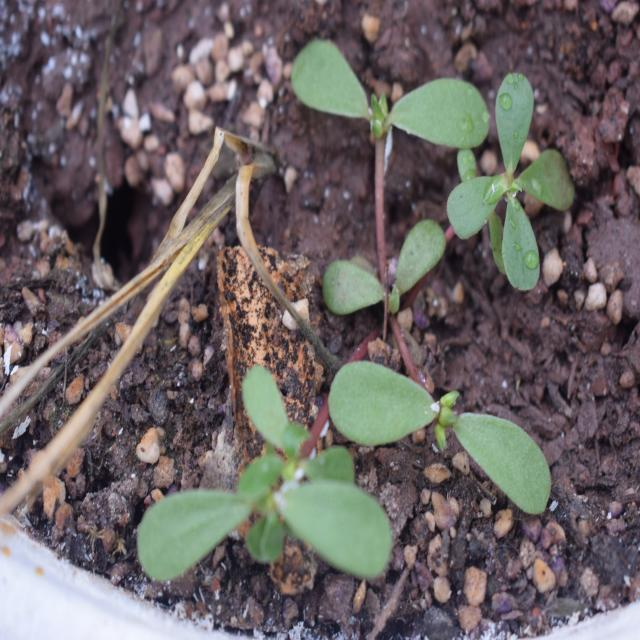purslane: (136, 45, 608, 608)
